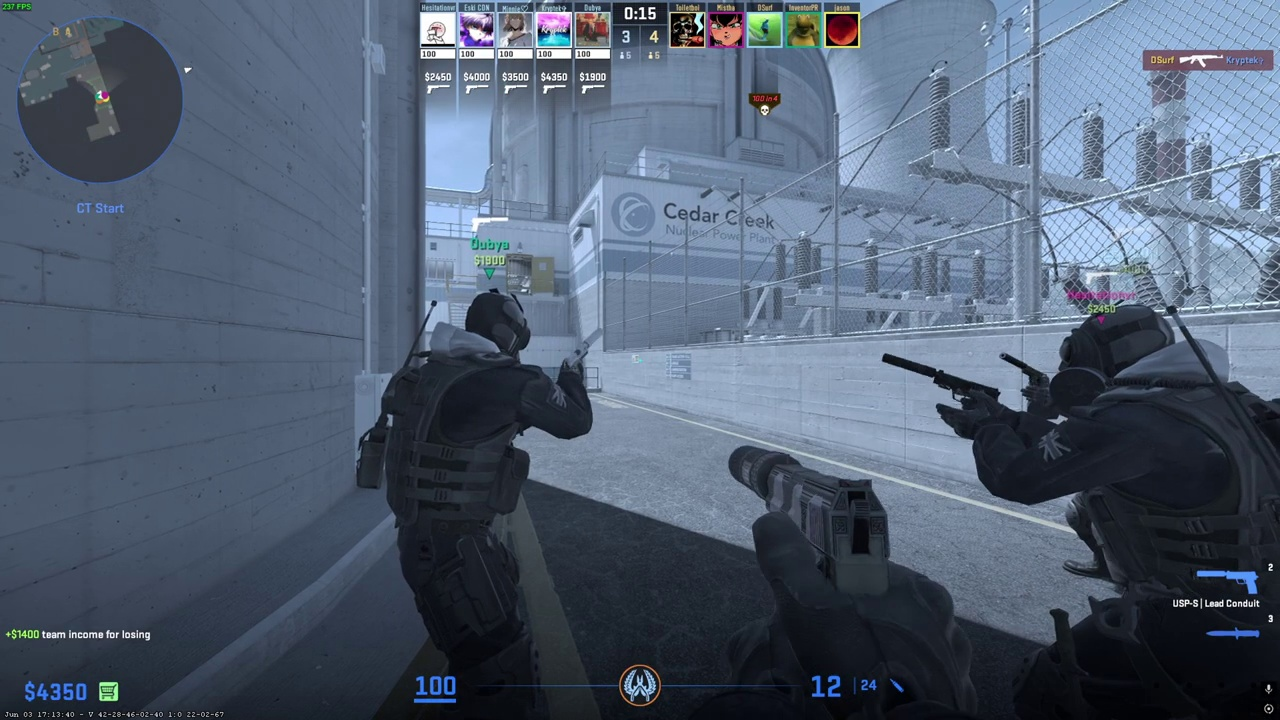CT: (1009, 304, 1280, 720), (381, 290, 570, 720)
